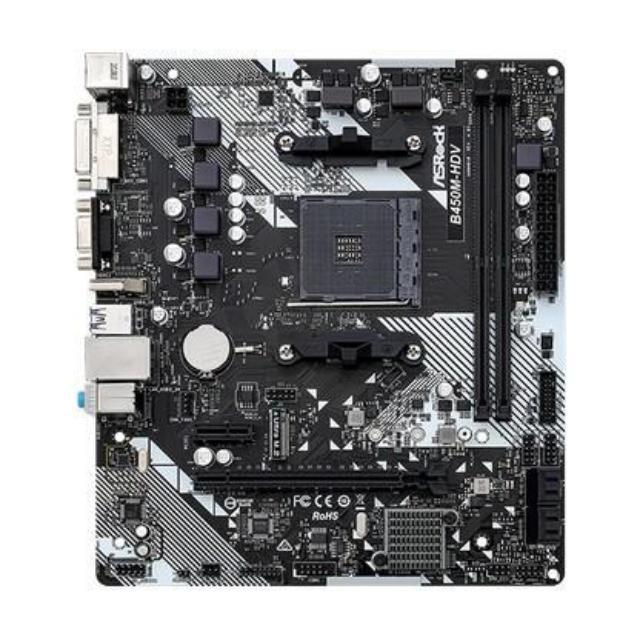Mainboard: (67, 41, 575, 604)
